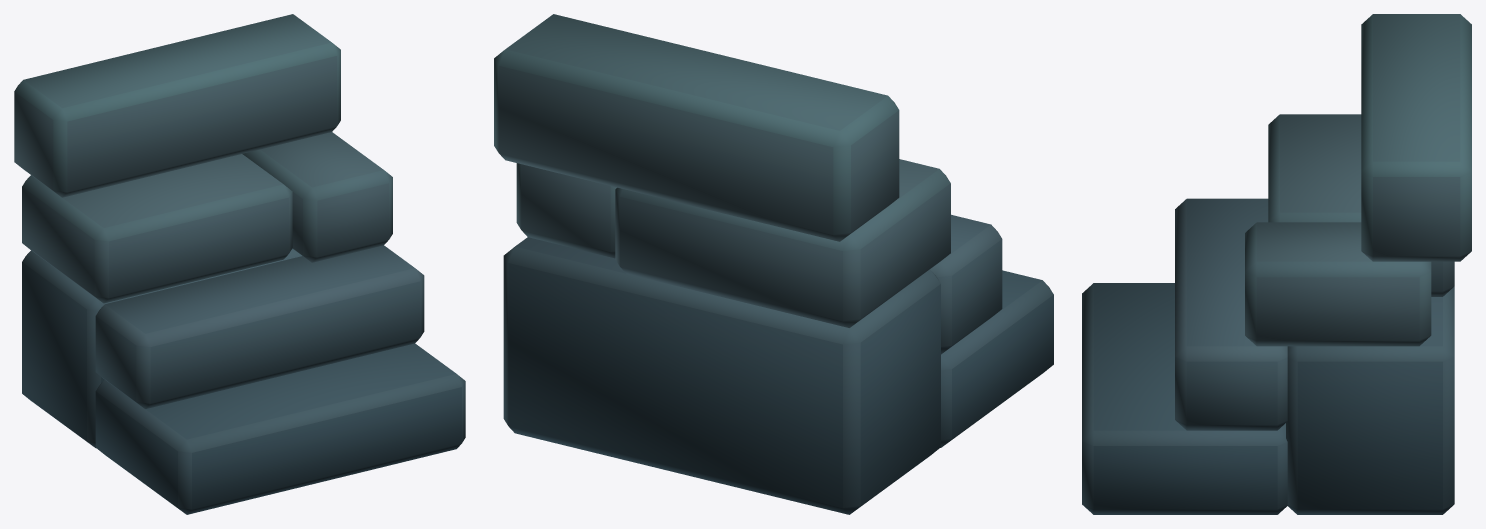
The model's file is stair_straight_1.fbx.
3 renders of one model, left to right at view 1: azimuth 30°, elevation 25°; view 2: azimuth 150°, elevation 25°; view 3: azimuth 270°, elevation 25°, orthographic. The views are drawn at different scales.
Visible parts, largest first — view 1: stair_straight_1; view 2: stair_straight_1; view 3: stair_straight_1.
Boxes of the visible parts, <box> form: stair_straight_1: <box>14,14,465,514</box>; stair_straight_1: <box>494,14,1053,514</box>; stair_straight_1: <box>1082,14,1471,514</box>.
Bounding box in the file's own units: 100 × 105 × 105.
